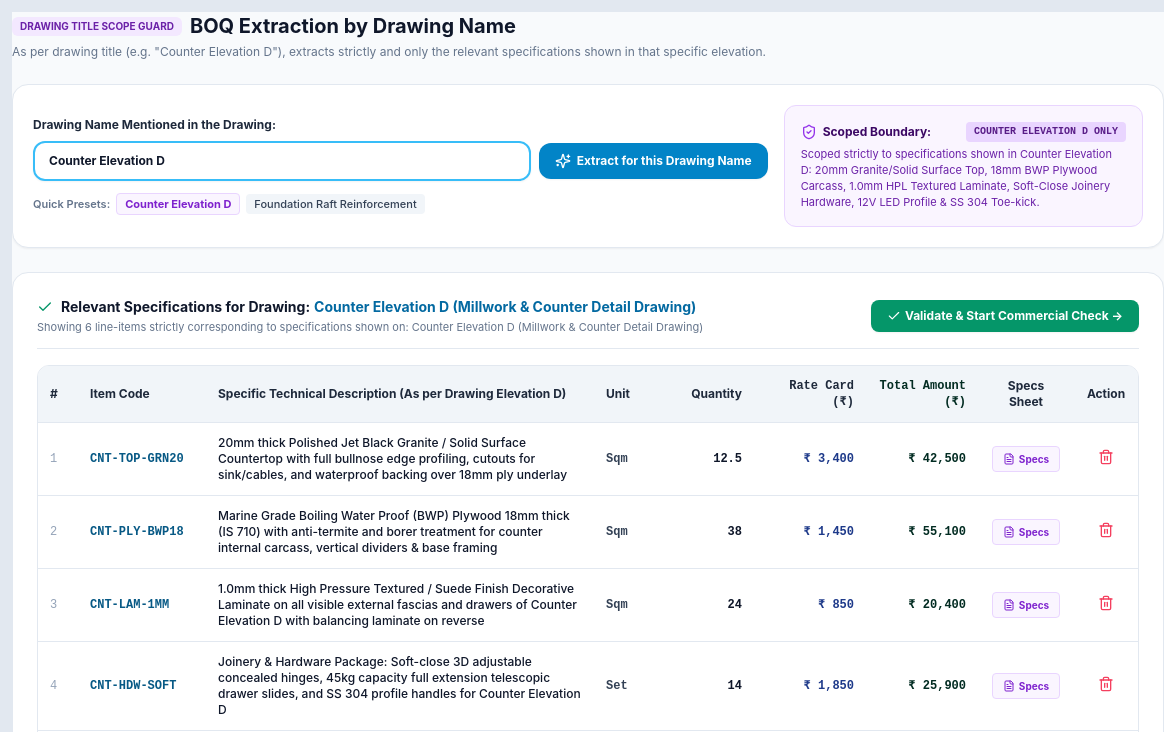
BOQStudio Component › deletes an item from the BOQ table
Check: the text "CNT-TOP-GRN20" is shown, box [78, 422, 206, 495]
Click the button without text in the row of "CNT-TOP-GRN20": click(1106, 456) [1098, 448, 1114, 464]
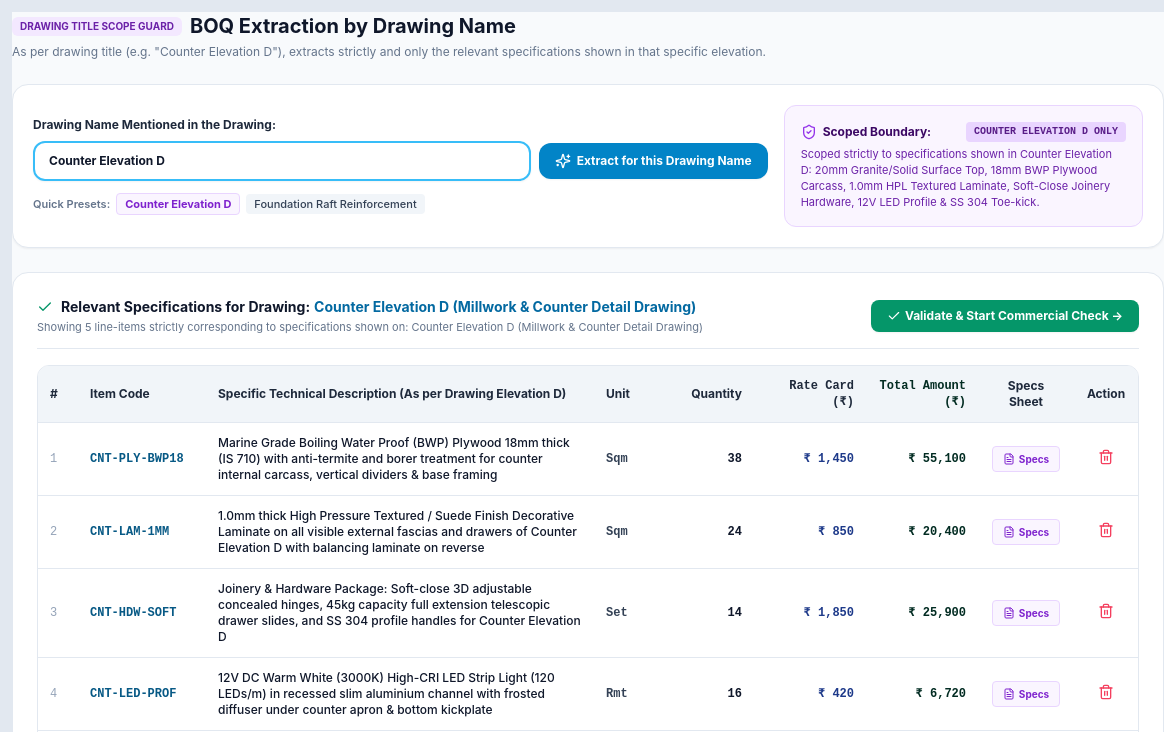
Check: the text "CNT-TOP-GRN20" is gone
